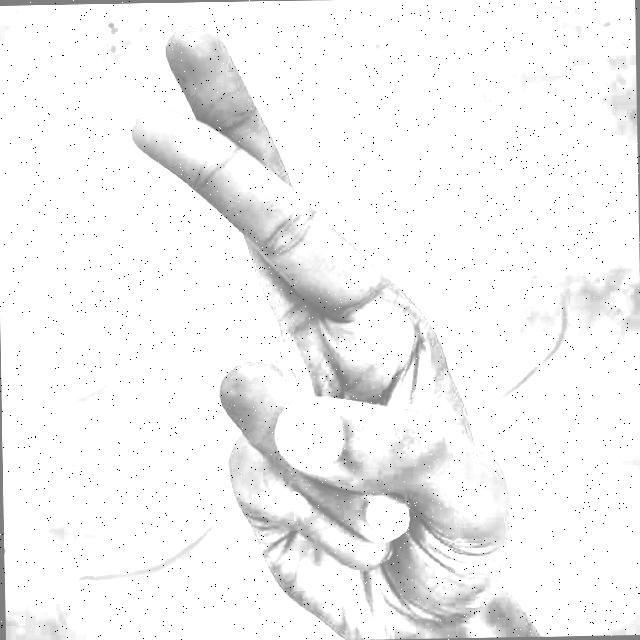Ra: (102, 2, 536, 640)
